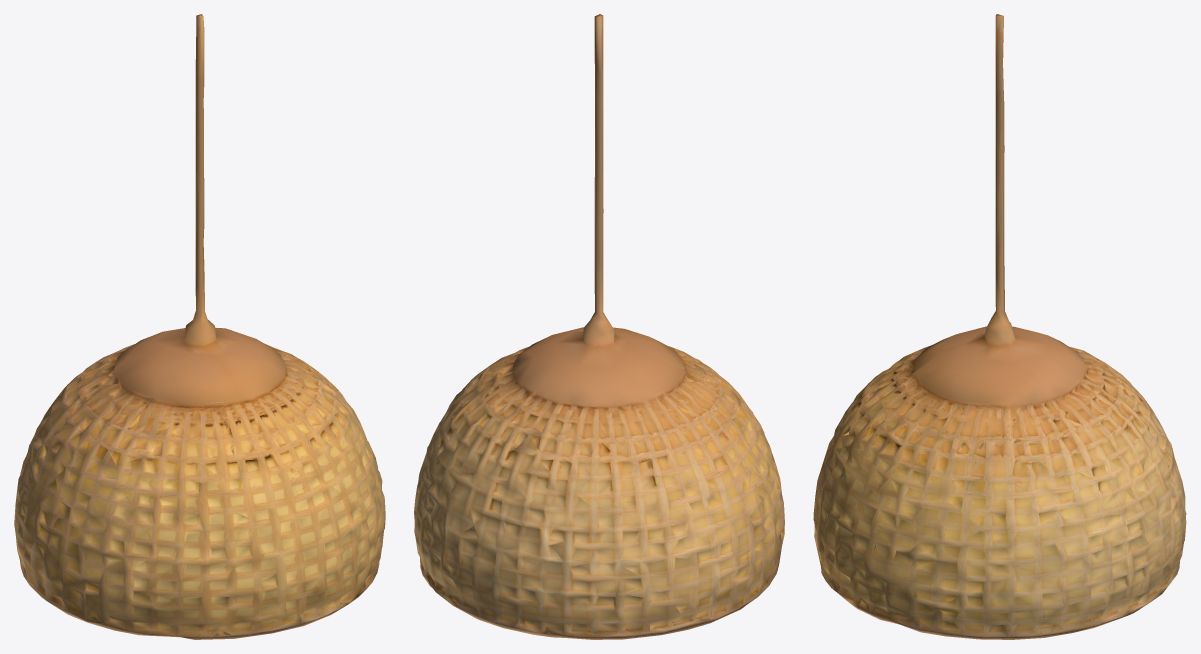
Rendered from yatakodasiavize.fbx.
3 views of the same model, side by side, from view 1: azimuth 30°, elevation 25°; view 2: azimuth 150°, elevation 25°; view 3: azimuth 270°, elevation 25° (orthographic).
Visible parts, largest first — view 1: Mesh_0; view 2: Mesh_0; view 3: Mesh_0.
Part boxes in pixels (x1=…): Mesh_0: x1=14, y1=14, x2=385, y2=639; Mesh_0: x1=414, y1=14, x2=784, y2=639; Mesh_0: x1=813, y1=14, x2=1186, y2=639.
Size of the model in its own units: 118 by 192 by 118.
Materials: 1 (1 with a texture image).
